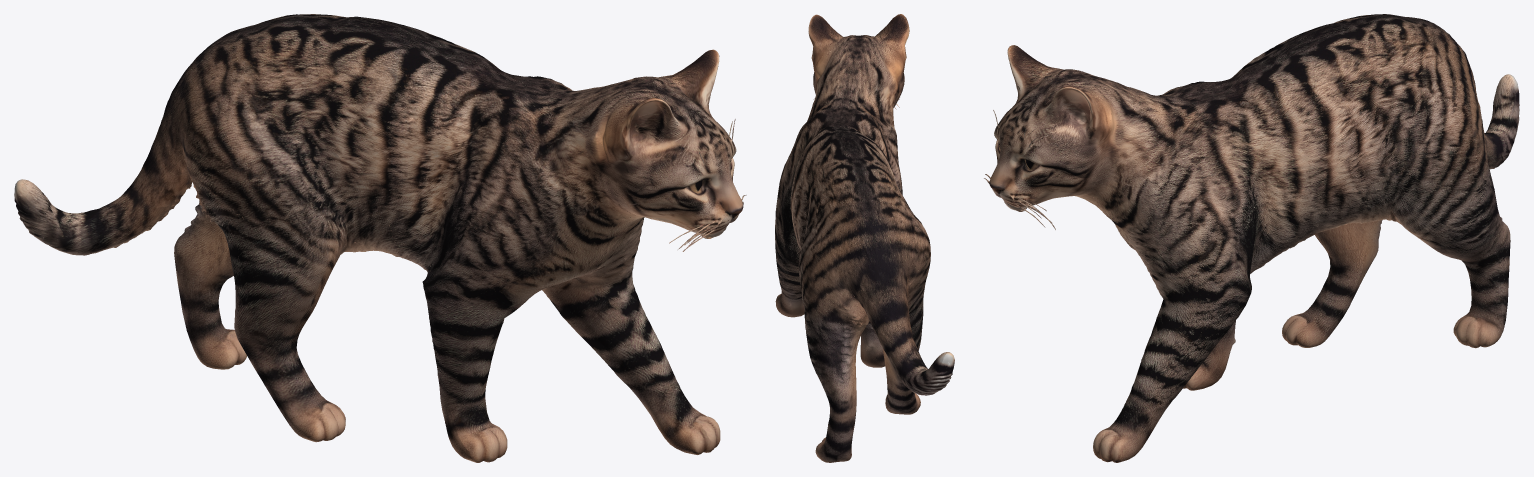
Rendered from cat_american__material.obj.
The picture shows the model from 3 angles, left to right: view 1: azimuth 30°, elevation 25°; view 2: azimuth 150°, elevation 25°; view 3: azimuth 270°, elevation 25°; orthographic projection. The views are drawn at different scales.
Visible parts, largest first — view 1: Export_mesh_node; view 2: Export_mesh_node; view 3: Export_mesh_node.
Boxes of the visible parts, x1,y1,x2,y2 form: Export_mesh_node: [14, 14, 746, 462]; Export_mesh_node: [775, 14, 954, 462]; Export_mesh_node: [984, 14, 1519, 462].
Size of the model in its own units: 12.04 by 10 by 13.24.
Materials: 1 (1 with a texture image).
